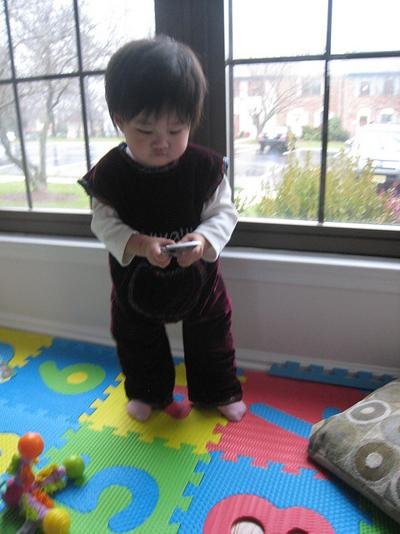person: (79, 37, 248, 421)
